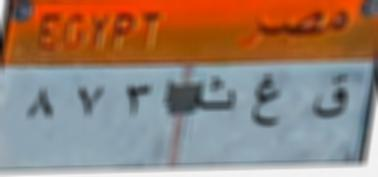3: (124, 78, 156, 119)
7: (70, 82, 111, 121)
8: (24, 83, 61, 125)
ghayn: (246, 70, 288, 134)
qaaf: (309, 70, 354, 122)
thaa: (196, 72, 242, 116)
